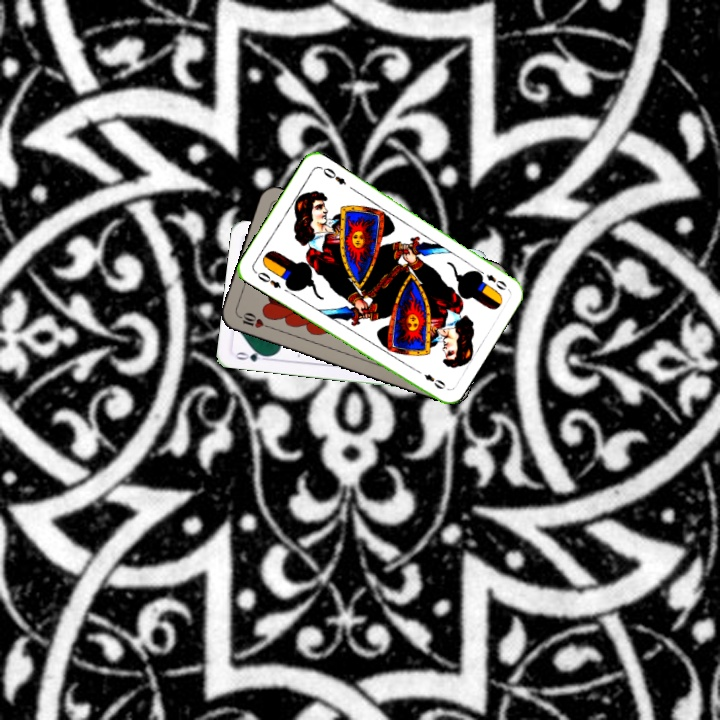EO: (473, 265, 509, 293), (250, 267, 284, 291)
GO: (232, 346, 272, 364)
H10: (234, 308, 274, 331)
